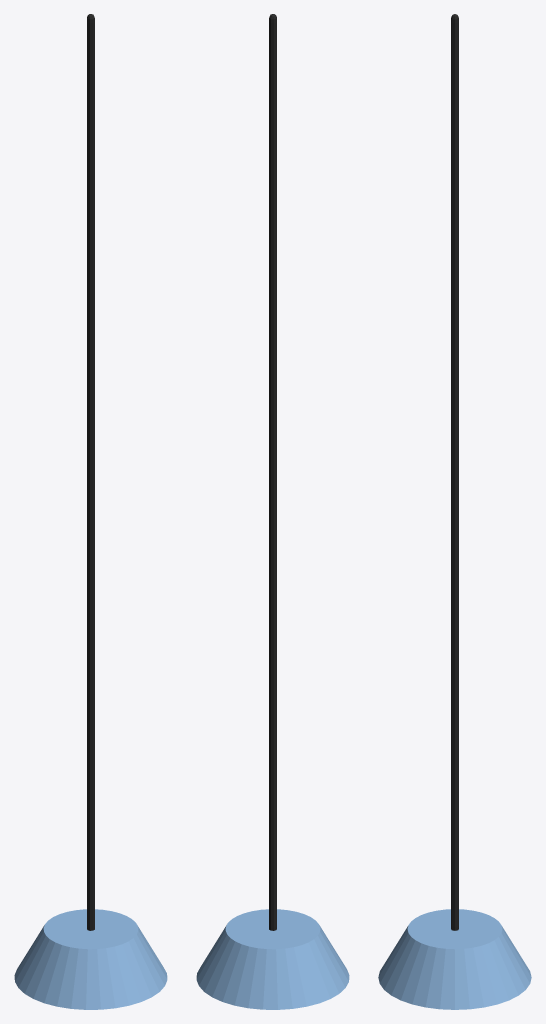
The model's file is Lampe.glb.
3 renders of one model, left to right at view 1: azimuth 30°, elevation 25°; view 2: azimuth 150°, elevation 25°; view 3: azimuth 270°, elevation 25°, orthographic.
Visible parts, largest first — view 1: Plane.005; view 2: Plane.005; view 3: Plane.005.
Part boxes in pixels (<box>): Plane.005: <box>14,14,167,1009</box>; Plane.005: <box>196,14,349,1009</box>; Plane.005: <box>378,14,531,1009</box>.
Bounding box in the file's own units: 0.7567 × 5.25 × 0.7567.
